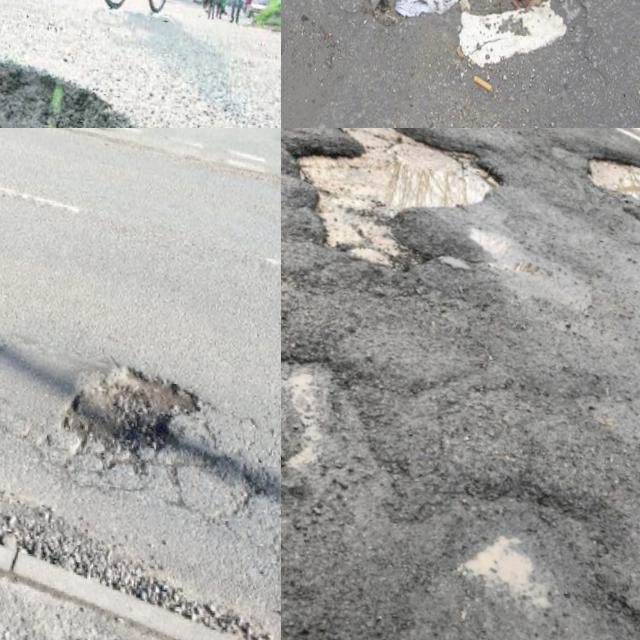Potholes: (421, 429, 640, 640), (281, 128, 504, 302), (281, 0, 640, 108), (0, 0, 281, 128), (33, 296, 203, 502), (281, 333, 416, 547), (567, 128, 640, 250), (281, 128, 415, 182)
